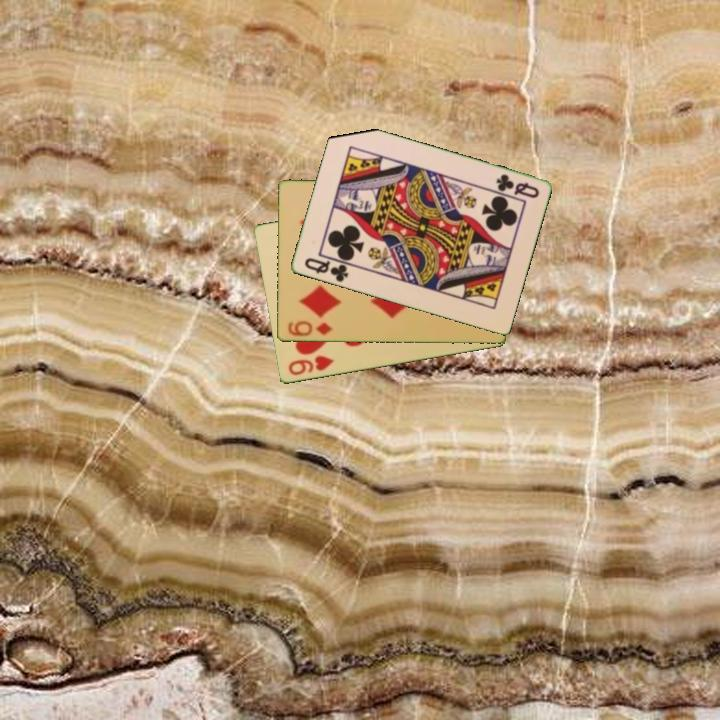6d: (284, 318, 335, 339)
9h: (285, 352, 336, 378)
Qc: (301, 254, 351, 285), (492, 171, 542, 201)
